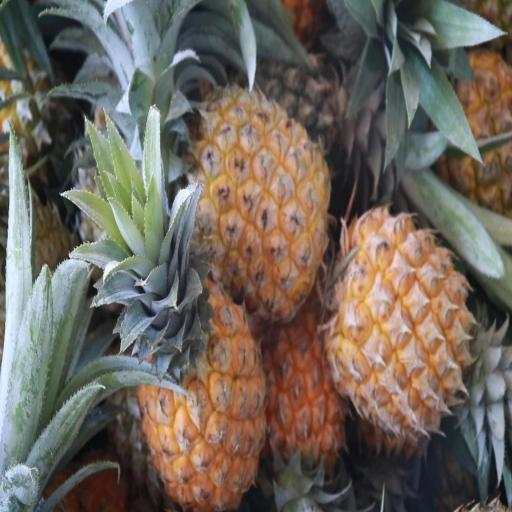Pineapple - v8 v1: (190, 79, 333, 317), (334, 204, 477, 438), (140, 256, 268, 510), (266, 294, 350, 505)
